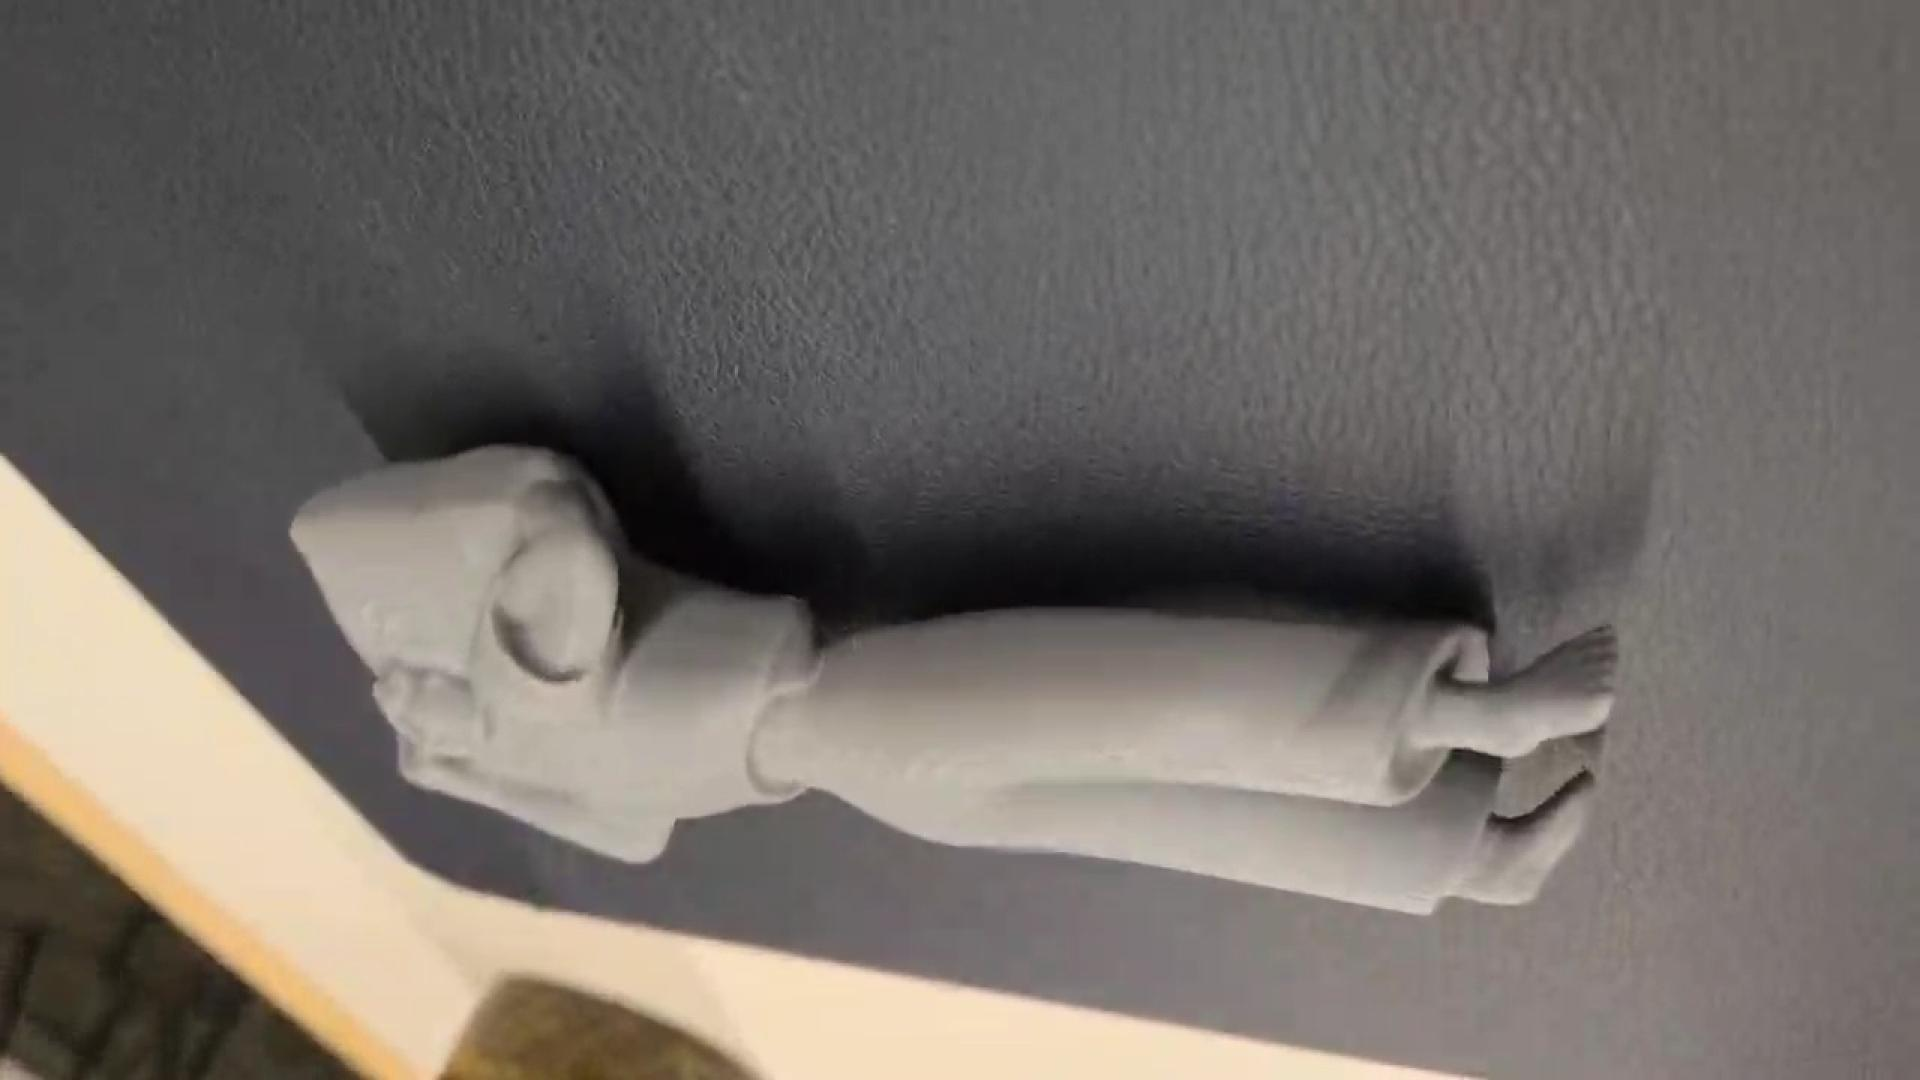Bad-style: (289, 448, 1622, 923)
